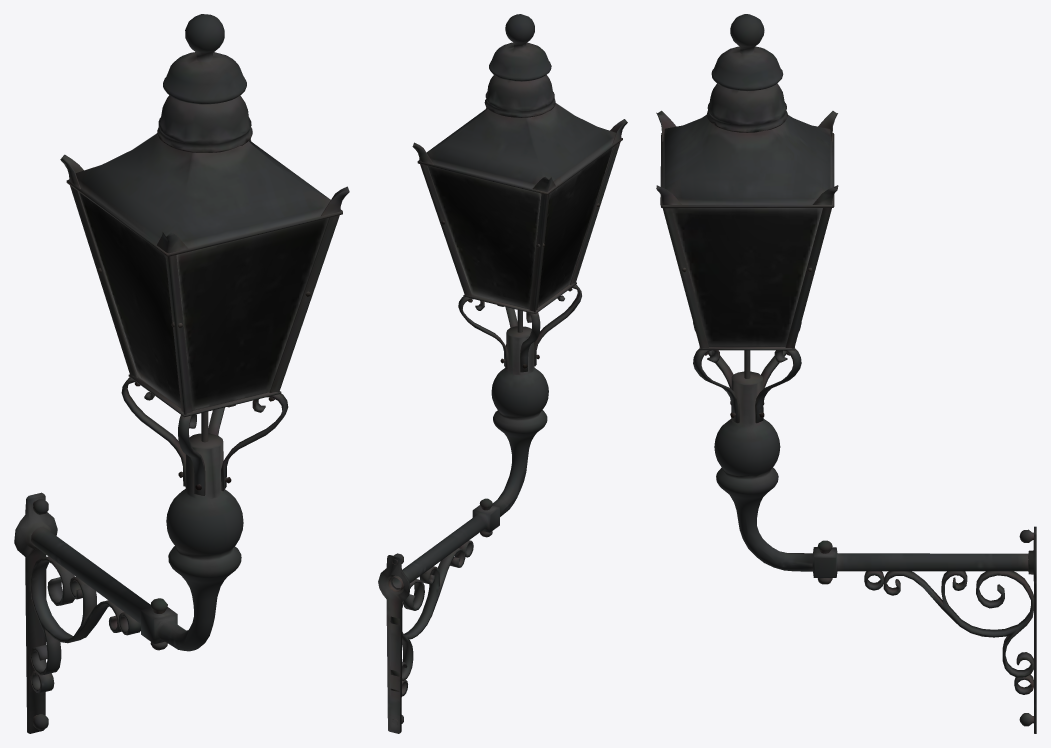
Rendered from street_lamp_02.glb.
The picture shows the model from 3 angles, left to right: view 1: azimuth 30°, elevation 25°; view 2: azimuth 150°, elevation 25°; view 3: azimuth 270°, elevation 25°; orthographic projection. The views are drawn at different scales.
Parts seen in each view (by area): view 1: street_lamp_02; view 2: street_lamp_02; view 3: street_lamp_02.
Part boxes in pixels (x1,y1,x2,y2): street_lamp_02: (14,14,349,733); street_lamp_02: (378,14,627,733); street_lamp_02: (656,14,1036,733).
Bounding box in the file's own units: 0.3862 × 1.67 × 0.8067.
Materials: 2 (2 with a texture image).
